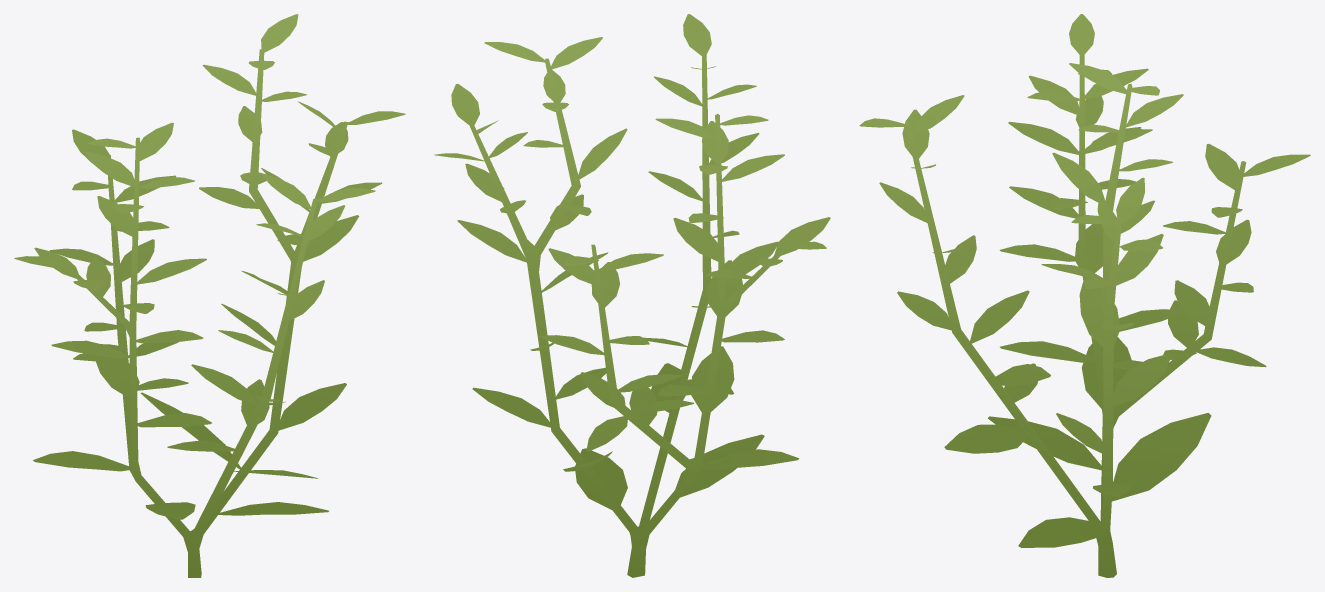
Rendered from Plant_06.glb.
3 renders of one model, left to right at view 1: azimuth 30°, elevation 25°; view 2: azimuth 150°, elevation 25°; view 3: azimuth 270°, elevation 25°, orthographic. The views are drawn at different scales.
Parts seen in each view (by area): view 1: Plant_06_LOD0; view 2: Plant_06_LOD0; view 3: Plant_06_LOD0.
Part boxes in pixels (x1,y1,x2,y2): Plant_06_LOD0: (14, 14, 405, 577); Plant_06_LOD0: (434, 14, 830, 577); Plant_06_LOD0: (859, 14, 1310, 577).
Size of what is drawn, in the model's own units: 0.6354 by 0.8212 by 0.6167.
Materials: 1 (1 with a texture image).
